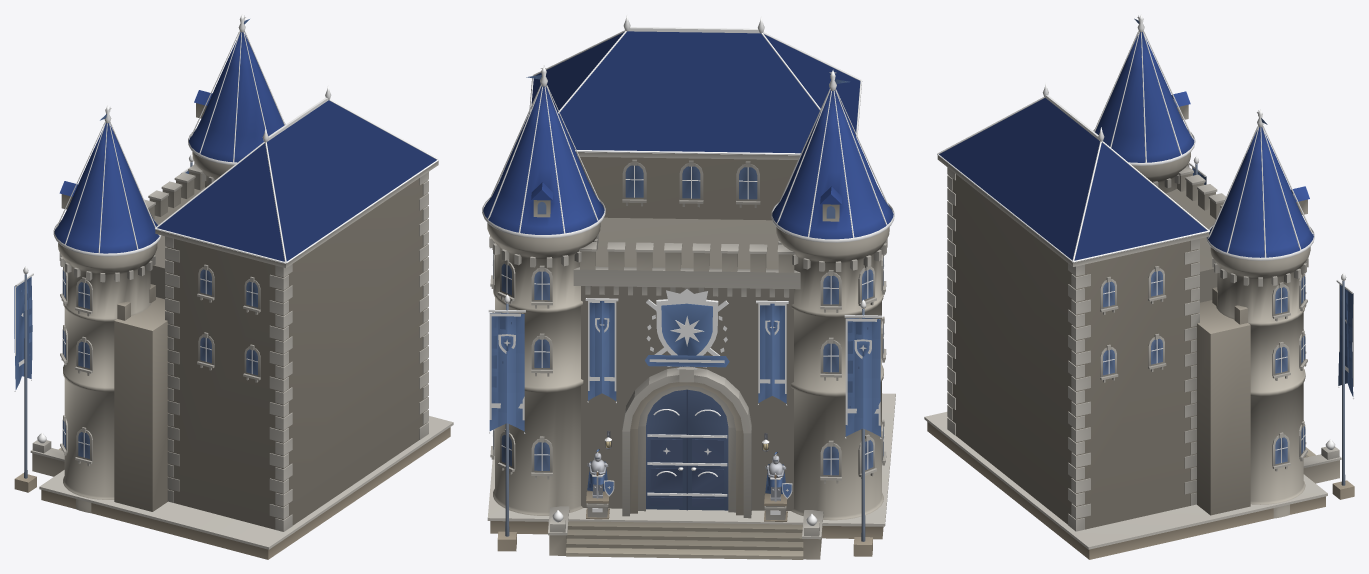
Rendered from knight_hq.glb.
3 views of the same model, side by side, from view 1: azimuth 30°, elevation 25°; view 2: azimuth 150°, elevation 25°; view 3: azimuth 270°, elevation 25° (orthographic). The views are drawn at different scales.
Visible parts, largest first — view 1: Knight_stone, Knight_roof, Knight_gold, Knight_props; view 2: Knight_stone, Knight_roof, Knight_props, Knight_gold; view 3: Knight_stone, Knight_roof, Knight_gold, Knight_props.
Part boxes in pixels (<box>): Knight_stone: <box>14,103,453,559</box>; Knight_roof: <box>54,32,436,261</box>; Knight_gold: <box>14,14,438,457</box>; Knight_props: <box>14,19,257,478</box>; Knight_stone: <box>487,152,895,559</box>; Knight_roof: <box>483,31,893,239</box>; Knight_props: <box>489,75,883,541</box>; Knight_gold: <box>482,14,894,525</box>; Knight_stone: <box>924,99,1354,559</box>; Knight_roof: <box>939,32,1313,260</box>; Knight_gold: <box>937,14,1353,462</box>; Knight_props: <box>1103,18,1353,485</box>.
Size of the model in its own units: 19.76 by 19 by 18.95.
